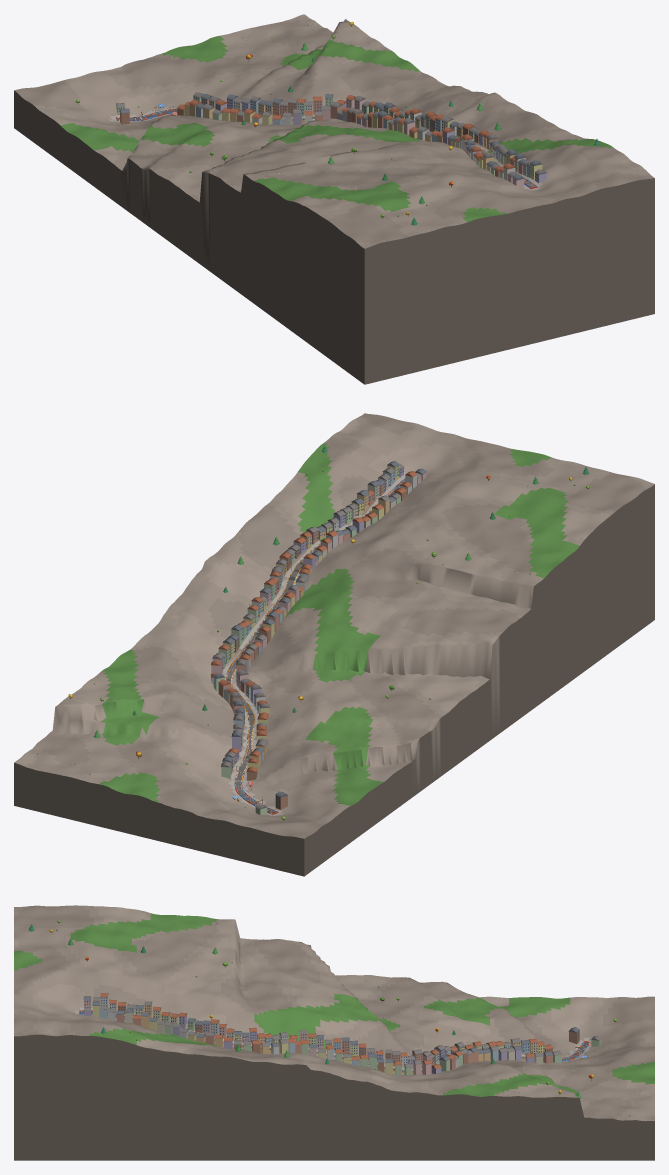
3 views of the same model, one above another, from view 1: azimuth 30°, elevation 25°; view 2: azimuth 150°, elevation 25°; view 3: azimuth 270°, elevation 25° (orthographic). The views are drawn at different scales.
Visible parts, largest first — view 1: grass, buildings; view 2: grass, buildings, road, hay; view 3: grass, buildings.
Part boxes in pixels (bbox=[...]): grass: bbox=[14, 14, 654, 384]; buildings: bbox=[116, 92, 546, 187]; grass: bbox=[14, 413, 654, 876]; buildings: bbox=[210, 461, 426, 814]; road: bbox=[226, 479, 405, 813]; hay: bbox=[225, 478, 405, 814]; grass: bbox=[14, 905, 654, 1160]; buildings: bbox=[83, 993, 601, 1075].
Bounding box in the file's own units: 325 × 157 × 680.
